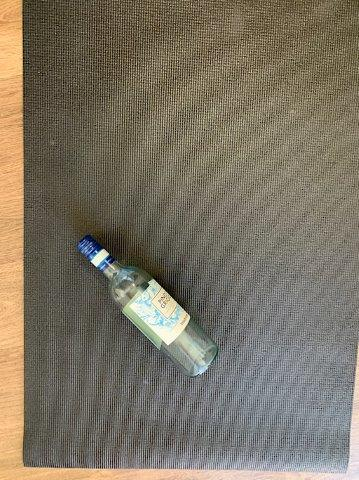botolkaca: (75, 235, 219, 376)
